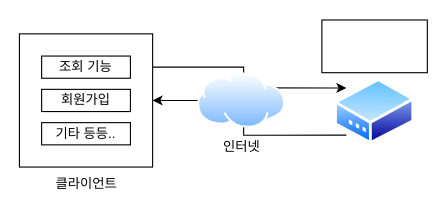
The diagram is 447 pixels wide and 219 high, and some of its shapes have lost their labels. The centre of each missing label's shape, as x and y in pixels:
"상품 목록 회원 정보" belongs at pixel 374 46.
"서버" belongs at pixel 374 111.
